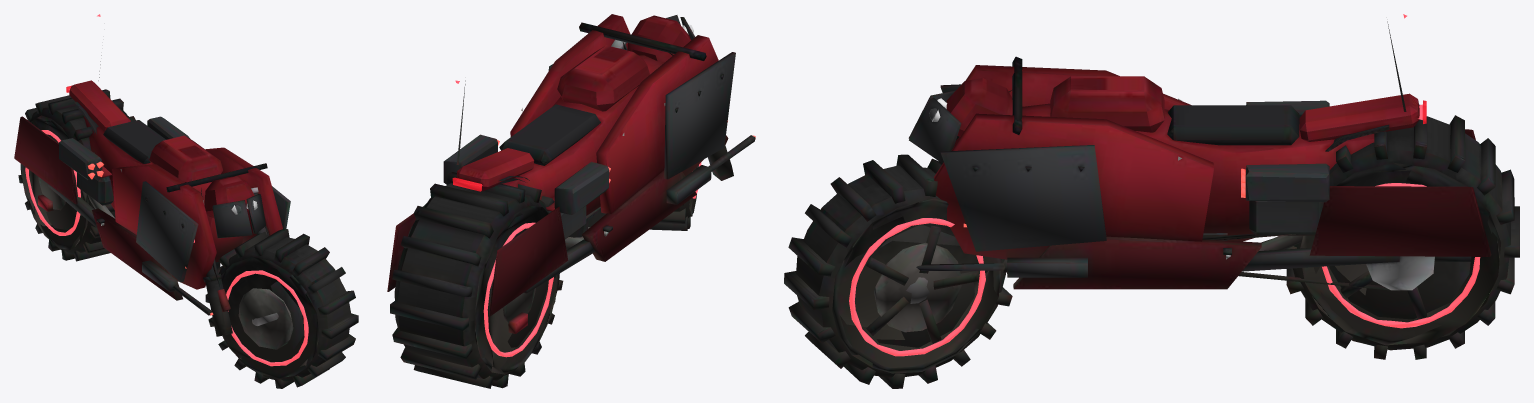
The model's file is CRB1_batcycle_battle_lod1.glb.
3 renders of one model, left to right at view 1: azimuth 30°, elevation 25°; view 2: azimuth 150°, elevation 25°; view 3: azimuth 270°, elevation 25°, orthographic. The views are drawn at different scales.
Visible parts, largest first — view 1: CRB1_batcycle_battle_LOD1; view 2: CRB1_batcycle_battle_LOD1; view 3: CRB1_batcycle_battle_LOD1.
Boxes of the visible parts, <box> form: CRB1_batcycle_battle_LOD1: <box>14,14,358,388</box>; CRB1_batcycle_battle_LOD1: <box>387,14,755,388</box>; CRB1_batcycle_battle_LOD1: <box>784,14,1519,388</box>.
Size of the model in its own units: 0.8788 by 1.61 by 3.06.
Materials: 8 (4 with a texture image).
